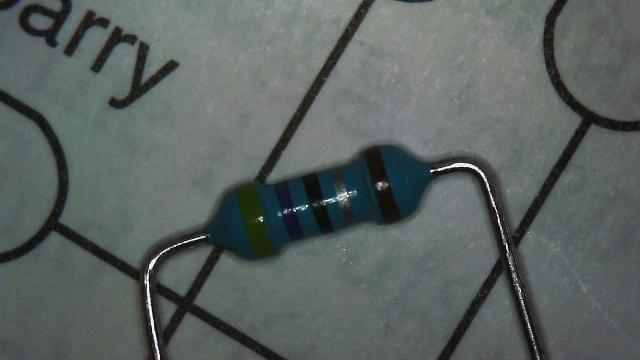black: (303, 172, 334, 234)
brown: (364, 146, 401, 223)
resistor: (201, 137, 438, 266)
silver: (332, 167, 354, 224)
violet: (274, 182, 303, 240)
yellow: (237, 184, 273, 258)
